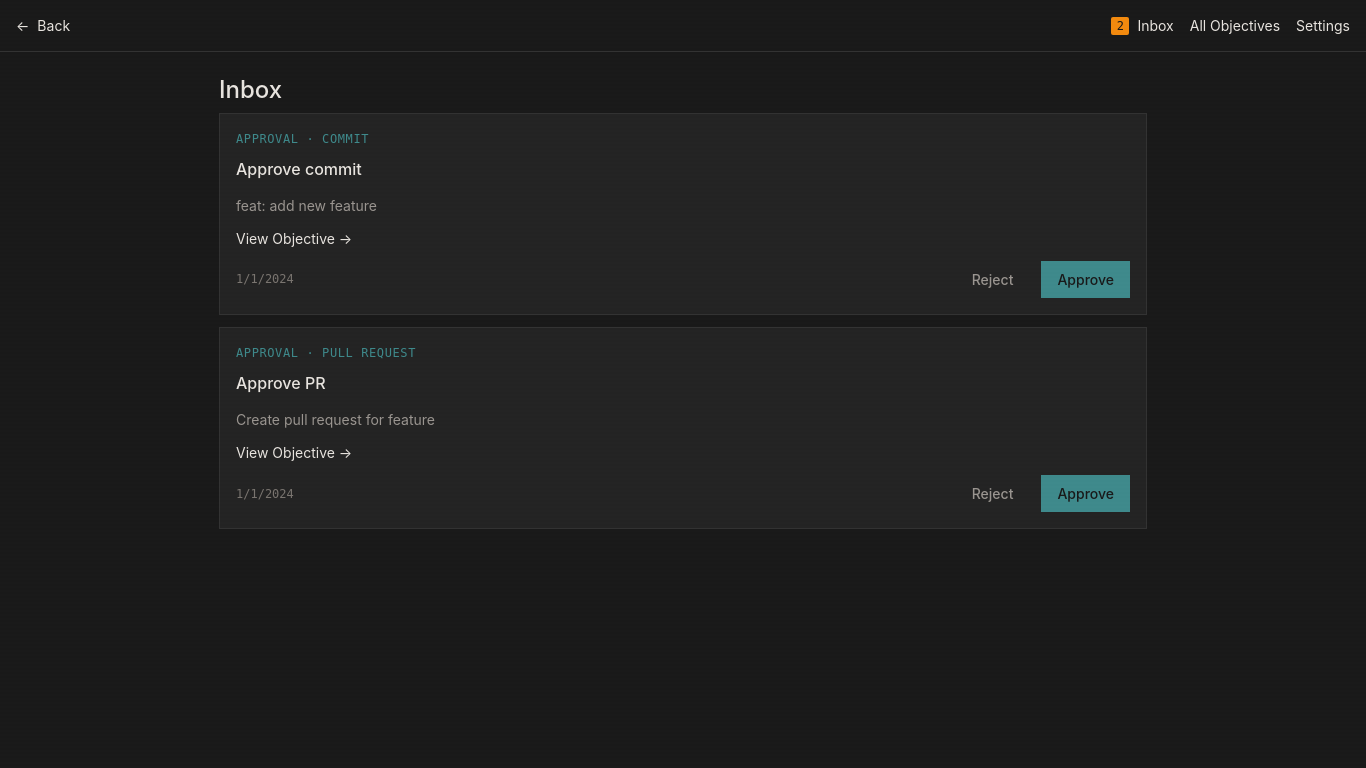
Inbox › approve action › removes approval from list on approve
Expected: the heading "Approve commit" is shown, [236,159,362,179]
Click the 1st button "Approve": (1086, 280) [1041,261,1130,298]
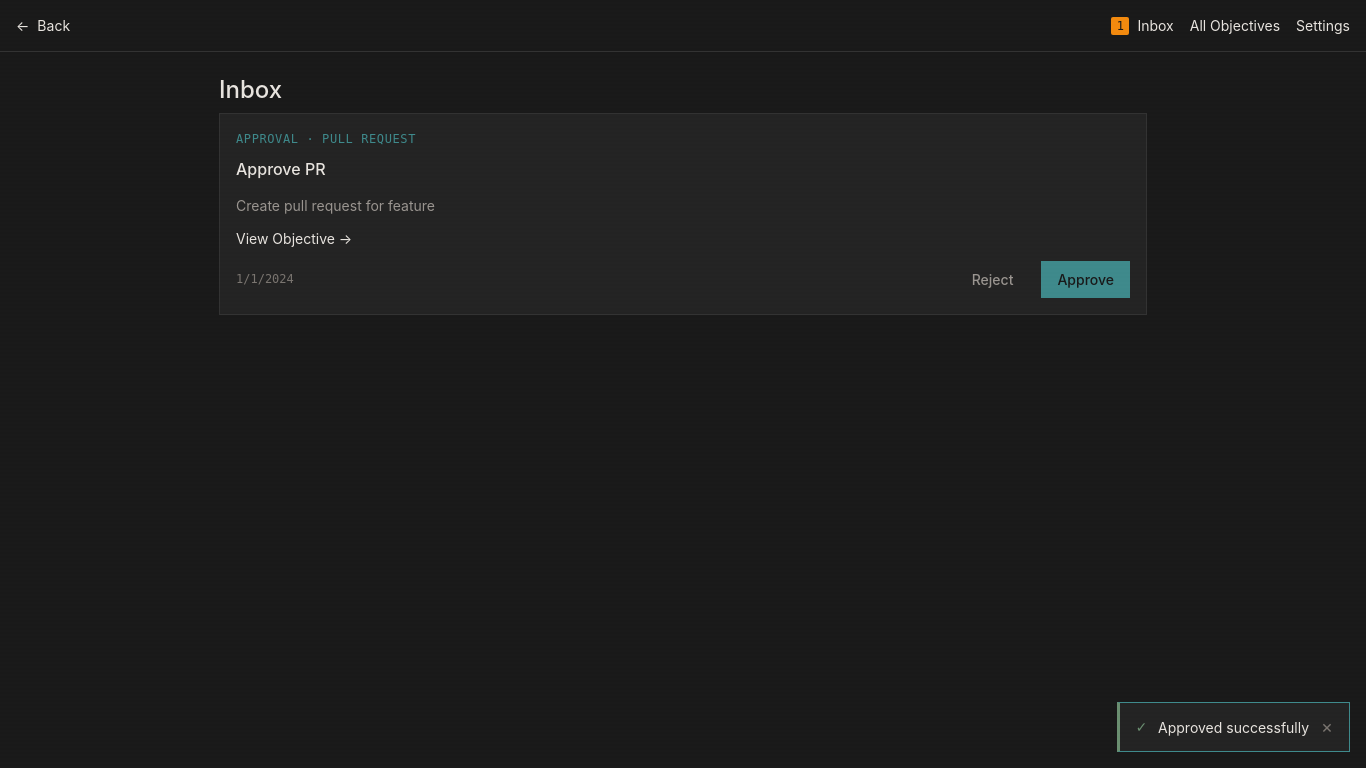
Expected: the heading "Approve commit" is gone
